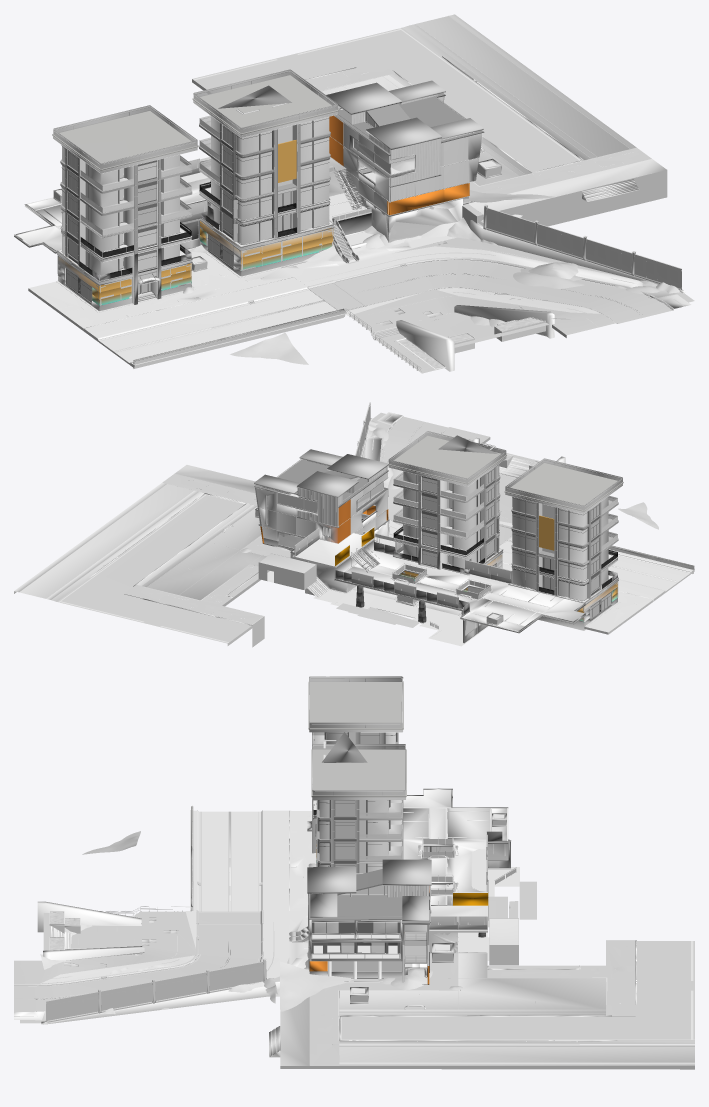
File: cell_81_58.fbx
3 renders of one model, top to bottom at view 1: azimuth 30°, elevation 25°; view 2: azimuth 150°, elevation 25°; view 3: azimuth 270°, elevation 25°, orthographic. The views are drawn at different scales.
Visible parts, largest first — view 1: SM_I_RoadFacility_Ground_D_11.mo, SM_I_RoadFacility_Ground_C_09D.mo, SM_H_Building_FutureTech_Dormitory_01.mo.002, SM_I_RoadFacility_Ground_D_03C.mo, SM_H_Building_FutureTech_Dormitory_01.mo.001, SM_H_Building_FutureTech_Dormitory_02_ExterWall_01F.mo.001, SM_H_Building_FutureTech_Dormitory_01B.mo.001, SM_H_Building_FutureTech_Dormitory_01B.mo.002, SM_H_Building_FutureTech_Dormitory_03_ExterWall_01.mo, SM_H_Building_FutureTech_Dormitory_02_Ornament_01.mo.002, SM_I_RoadFacility_Ground_C_09C.mo, SM_H_Building_FutureTech_Dormitory_01C.mo.002 (+21 smaller); view 2: SM_I_RoadFacility_Ground_D_11.mo, SM_H_Building_FutureTech_Dormitory_01.mo.002, SM_H_Building_FutureTech_Dormitory_01.mo.001, SM_H_Building_FutureTech_DormitoryPassage_01.mo, SM_H_Building_FutureTech_Dormitory_01B.mo.002, SM_H_Building_FutureTech_Dormitory_01B.mo.001, SM_H_Building_FutureTech_Dormitory_02_ExterWall_01F.mo.001, SM_I_RoadFacility_Ground_D_03C.mo, SM_I_RoadFacility_Ground_C_09D.mo, SM_H_Building_FutureTech_Dormitory_03_ExterWall_01.mo, SM_H_Building_FutureTech_Dormitory_02_Ornament_01.mo.001, SM_H_Building_FutureTech_Dormitory_02_InterWall_03.mo.002 (+12 smaller); view 3: SM_I_RoadFacility_Ground_D_11.mo, SM_I_RoadFacility_Ground_C_09D.mo, SM_I_RoadFacility_Ground_D_03C.mo, SM_H_Building_FutureTech_Dormitory_02_ExterWall_01F.mo.001, SM_H_Building_FutureTech_Dormitory_01.mo.001, SM_H_Building_FutureTech_DormitoryPassage_01.mo, SM_H_Building_FutureTech_Dormitory_01.mo.002, SM_H_Building_FutureTech_Dormitory_03_ExterWall_01.mo, SM_H_Building_FutureTech_Dormitory_01B.mo.001, SM_H_Building_FutureTech_Dormitory_02_Ornament_01.mo.001, SM_I_Terrain_Road_Desert_Decal_Sand_06.mo.005, SM_I_RoadFacility_Ground_C_09C.mo (+16 smaller).
Part boxes in pixels (x1,y1,x2,y2): SM_I_RoadFacility_Ground_D_11.mo: [192, 14, 667, 228]; SM_I_RoadFacility_Ground_C_09D.mo: [280, 220, 694, 373]; SM_H_Building_FutureTech_Dormitory_01.mo.002: [52, 105, 198, 310]; SM_I_RoadFacility_Ground_D_03C.mo: [28, 247, 345, 368]; SM_H_Building_FutureTech_Dormitory_01.mo.001: [192, 69, 338, 276]; SM_H_Building_FutureTech_Dormitory_02_ExterWall_01F.mo.001: [329, 93, 484, 215]; SM_H_Building_FutureTech_Dormitory_01B.mo.001: [193, 69, 337, 257]; SM_H_Building_FutureTech_Dormitory_01B.mo.002: [53, 105, 197, 280]; SM_H_Building_FutureTech_Dormitory_03_ExterWall_01.mo: [14, 167, 462, 253]; SM_H_Building_FutureTech_Dormitory_02_Ornament_01.mo.002: [366, 117, 441, 187]; SM_I_RoadFacility_Ground_C_09C.mo: [327, 241, 684, 342]; SM_H_Building_FutureTech_Dormitory_01C.mo.002: [62, 150, 156, 302]; SM_I_RoadFacility_Ground_D_11.mo: [14, 465, 291, 647]; SM_H_Building_FutureTech_Dormitory_01.mo.002: [504, 459, 623, 630]; SM_H_Building_FutureTech_Dormitory_01.mo.001: [388, 431, 506, 596]; SM_H_Building_FutureTech_DormitoryPassage_01.mo: [292, 526, 509, 646]; SM_H_Building_FutureTech_Dormitory_01B.mo.002: [505, 458, 622, 600]; SM_H_Building_FutureTech_Dormitory_01B.mo.001: [388, 431, 506, 573]; SM_H_Building_FutureTech_Dormitory_02_ExterWall_01F.mo.001: [254, 459, 388, 550]; SM_I_RoadFacility_Ground_D_03C.mo: [499, 537, 694, 634]; SM_I_RoadFacility_Ground_C_09D.mo: [361, 412, 565, 537]; SM_H_Building_FutureTech_Dormitory_03_ExterWall_01.mo: [354, 513, 586, 633]; SM_H_Building_FutureTech_Dormitory_02_Ornament_01.mo.001: [296, 471, 358, 527]; SM_H_Building_FutureTech_Dormitory_02_InterWall_03.mo.002: [258, 553, 316, 589]; SM_I_RoadFacility_Ground_D_11.mo: [269, 940, 694, 1069]; SM_I_RoadFacility_Ground_C_09D.mo: [14, 901, 308, 1024]; SM_I_RoadFacility_Ground_D_03C.mo: [190, 806, 316, 911]; SM_H_Building_FutureTech_Dormitory_02_ExterWall_01F.mo.001: [309, 869, 429, 984]; SM_H_Building_FutureTech_Dormitory_01.mo.001: [311, 744, 406, 873]; SM_H_Building_FutureTech_DormitoryPassage_01.mo: [403, 839, 519, 978]; SM_H_Building_FutureTech_Dormitory_01.mo.002: [307, 676, 403, 862]; SM_H_Building_FutureTech_Dormitory_03_ExterWall_01.mo: [308, 788, 508, 969]; SM_H_Building_FutureTech_Dormitory_01B.mo.001: [312, 744, 405, 872]; SM_H_Building_FutureTech_Dormitory_02_Ornament_01.mo.001: [382, 859, 431, 922]; SM_I_Terrain_Road_Desert_Decal_Sand_06.mo.005: [280, 961, 353, 1011]; SM_I_RoadFacility_Ground_C_09C.mo: [14, 911, 281, 1016].
Size of the model in its own units: 113 by 32.1 by 118.
